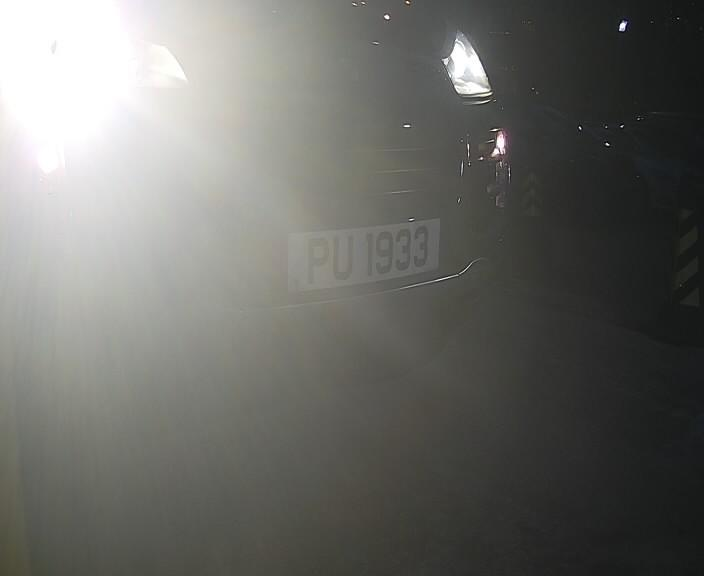privatecar: (26, 2, 537, 407)
